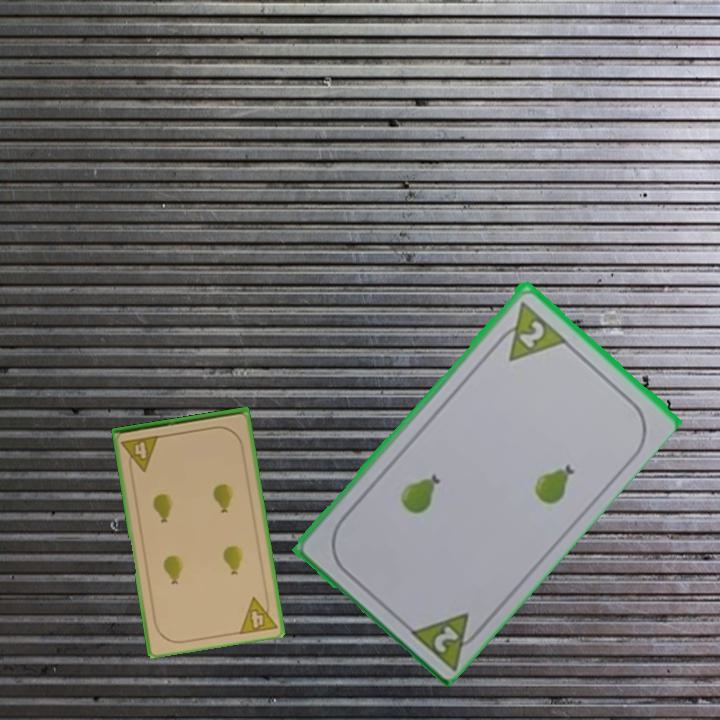2p: (489, 297, 569, 364), (403, 608, 488, 671)
4p: (235, 590, 280, 637), (118, 432, 162, 475)
